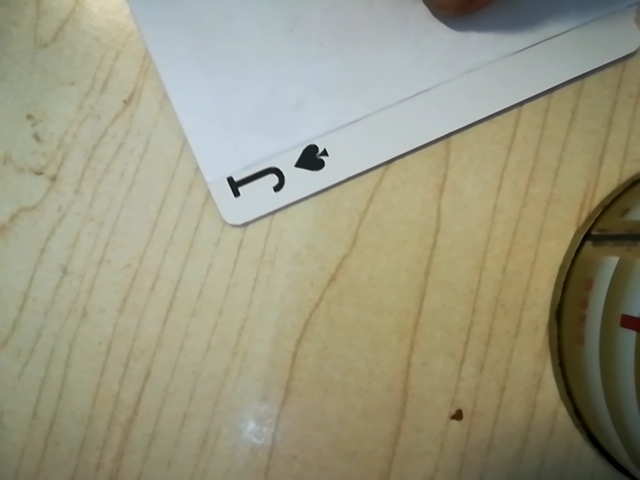ht j: (219, 136, 345, 212)
